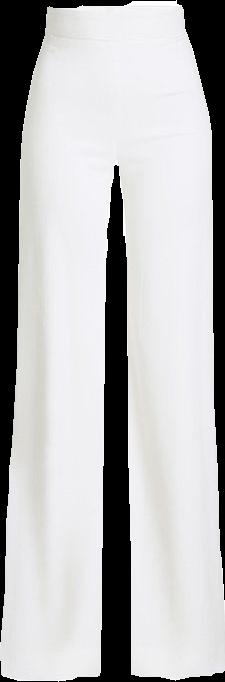Hemline: (129, 666, 224, 681), (0, 668, 99, 681)
Pantleg: (0, 6, 122, 679), (118, 2, 224, 679)
Waistline: (42, 27, 186, 47), (46, 0, 181, 14)
